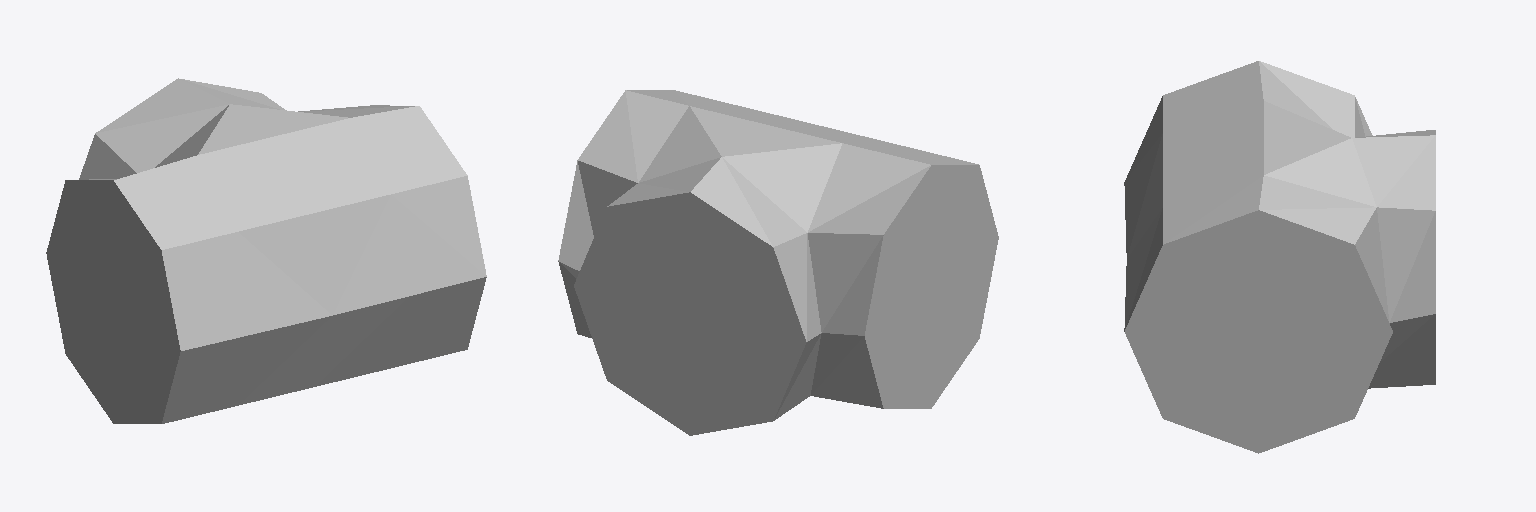
File: 2 branches T.obj
The picture shows the model from 3 angles: view 1: azimuth 30°, elevation 25°; view 2: azimuth 150°, elevation 25°; view 3: azimuth 270°, elevation 25°; orthographic projection.
Parts seen in each view (by area): view 1: 2_branches_(T)_Cube.012; view 2: 2_branches_(T)_Cube.012; view 3: 2_branches_(T)_Cube.012.
Boxes of the visible parts, x1=… form: 2_branches_(T)_Cube.012: x1=46, y1=78, x2=486, y2=423; 2_branches_(T)_Cube.012: x1=558, y1=90, x2=998, y2=435; 2_branches_(T)_Cube.012: x1=1124, y1=61, x2=1435, y2=453.
Bounding box in the file's own units: 2 × 1.54 × 1.76.